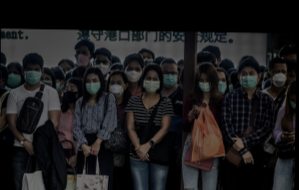with_mask: (238, 68, 258, 90), (159, 67, 178, 88), (269, 67, 288, 87), (108, 78, 126, 98), (23, 65, 41, 84), (142, 74, 160, 93), (123, 65, 141, 83), (5, 68, 21, 87), (85, 76, 101, 95), (63, 83, 77, 103), (197, 75, 213, 92), (93, 58, 109, 75), (214, 75, 227, 95), (75, 48, 89, 66), (288, 96, 296, 112)
